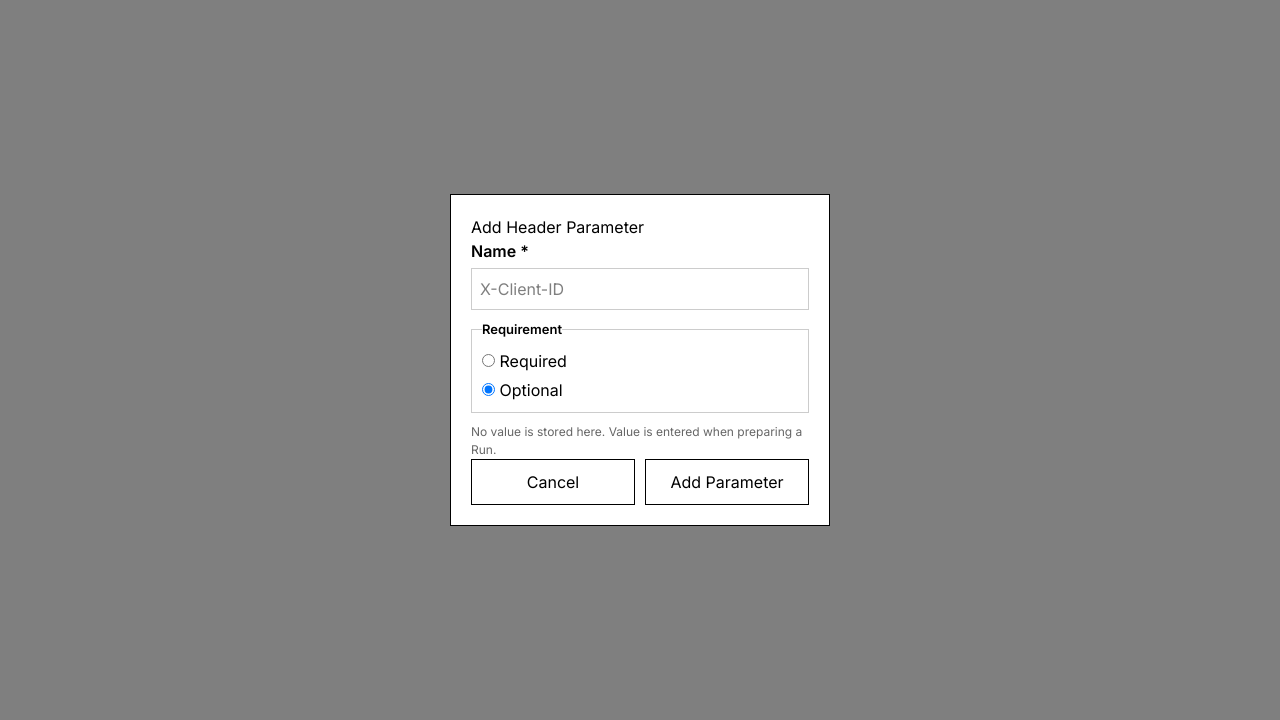
Test: ParameterDefinitionDialog › rejects a duplicate Header name case-insensitively
Type "x-client-id" into the field labelled "Name *" at (640, 289), box top-left (471, 268), bottom-right (809, 310)
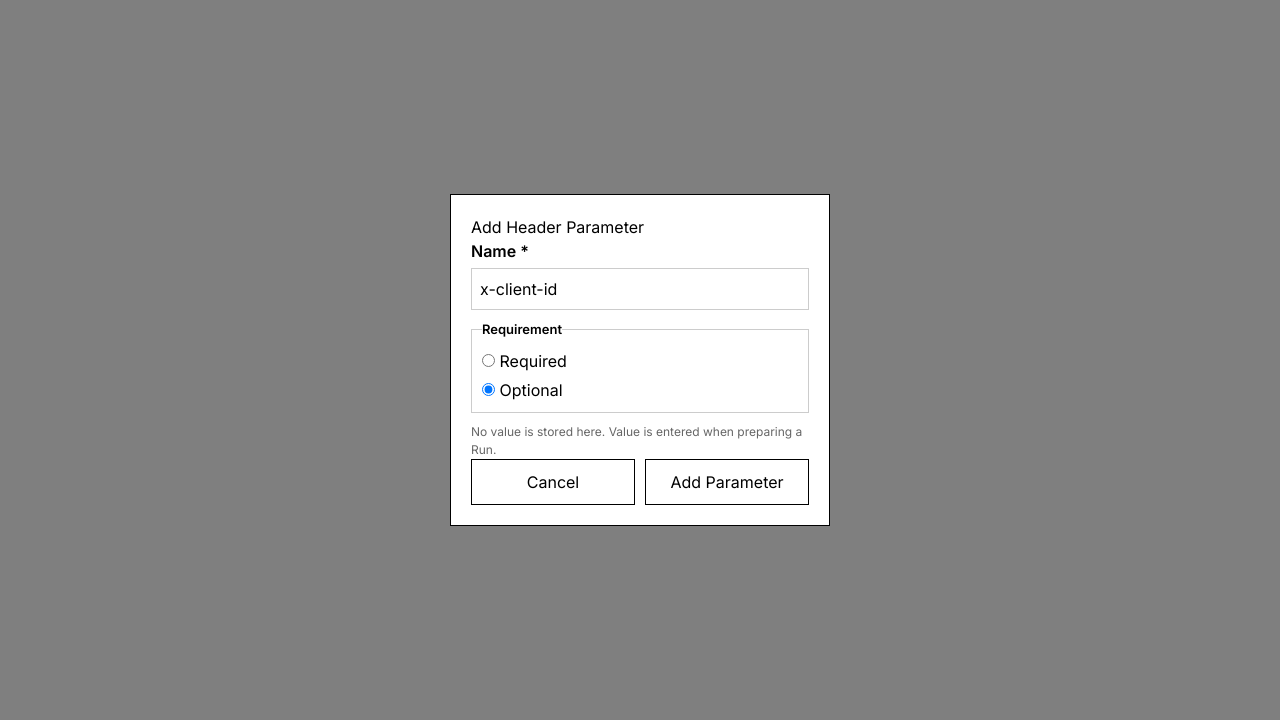
Click the button "Add Parameter" at (727, 482), box top-left (645, 459), bottom-right (809, 505)
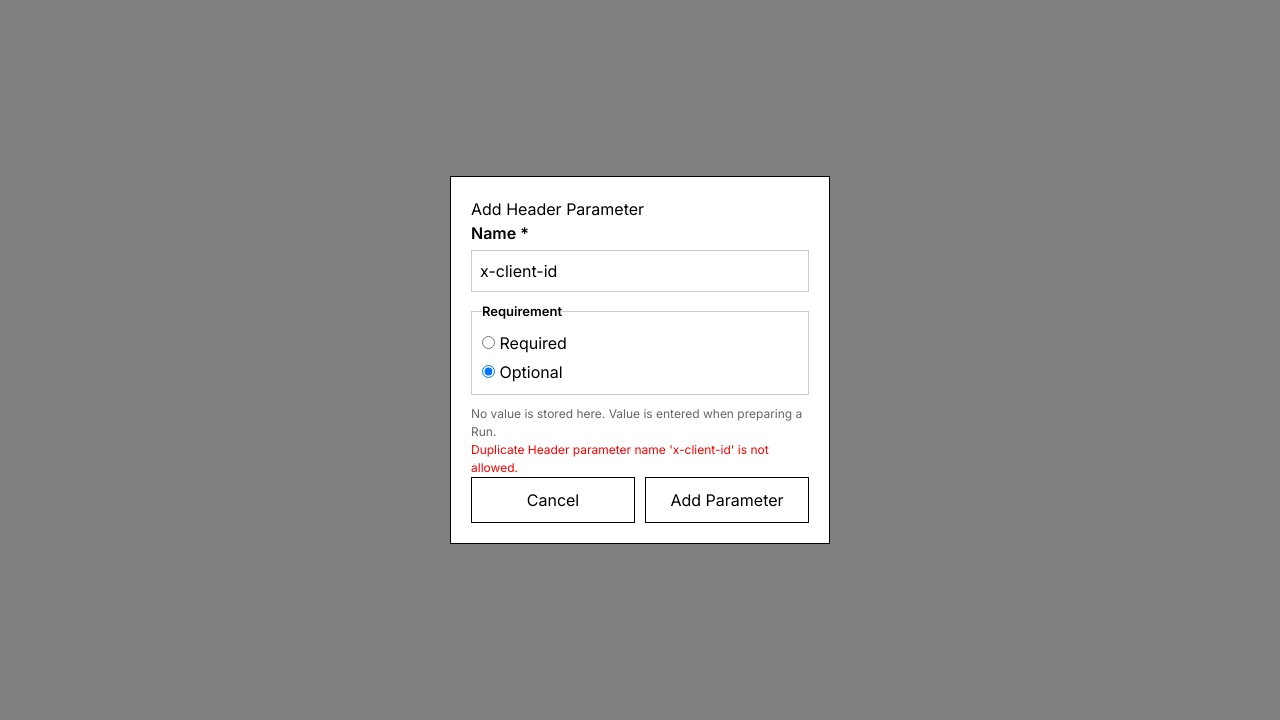
Check: the text "Duplicate Header parameter name" is shown, box top-left (471, 442), bottom-right (769, 475)
